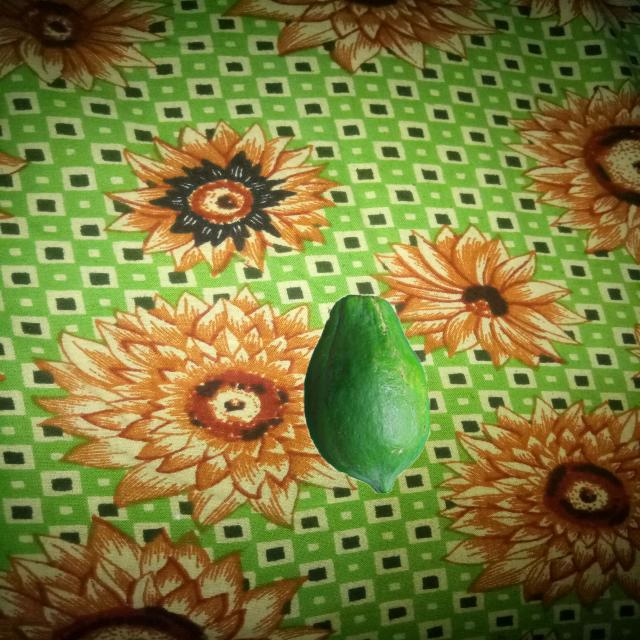Pepaya unrippen: (303, 290, 427, 492)
